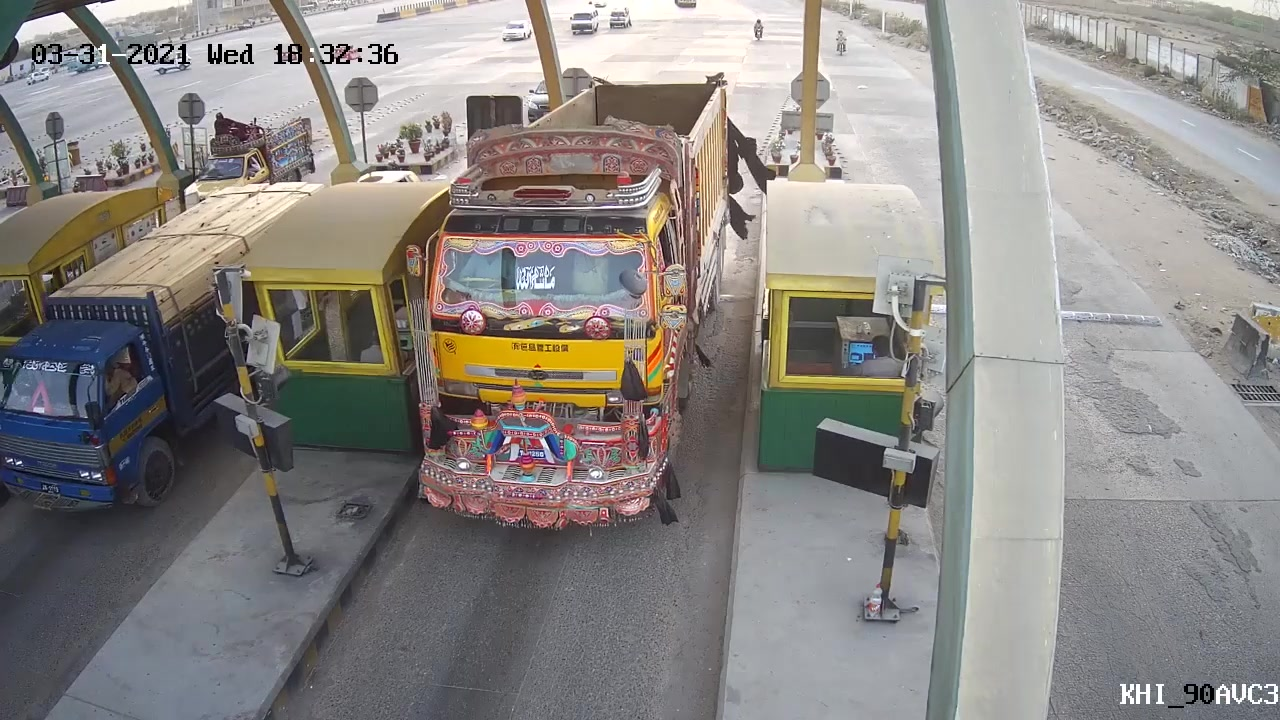F5: (401, 68, 749, 538)
